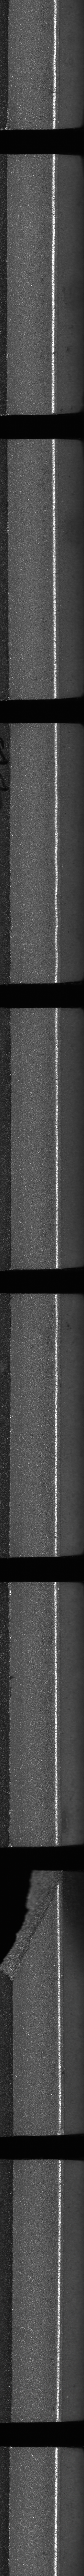Chip: (0, 1865, 66, 1989)
